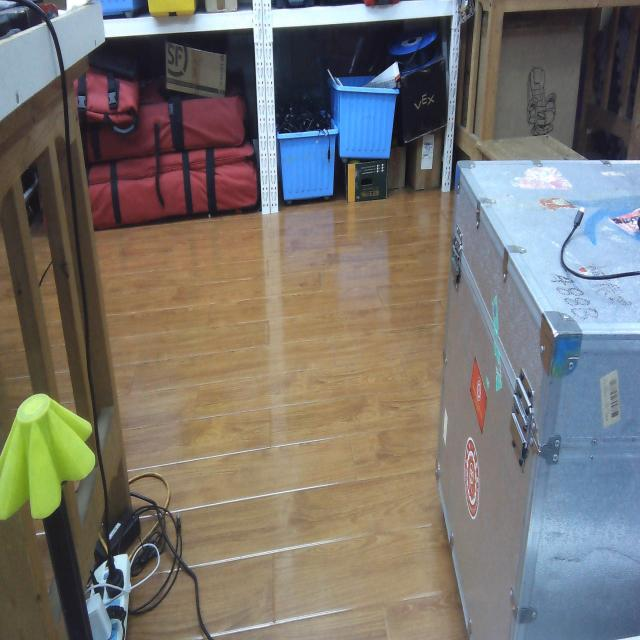Yellow-Stake-Head: (0, 394, 95, 520)
